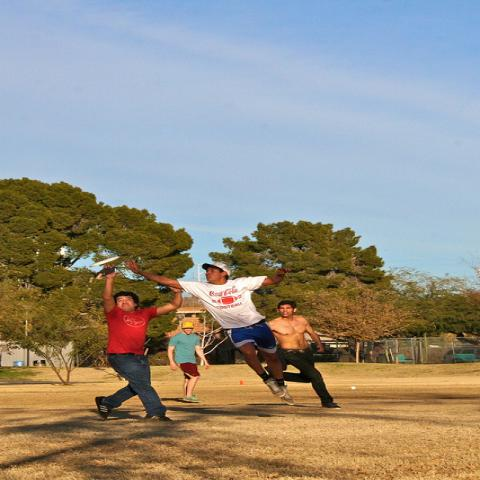car: (439, 347, 479, 364)
